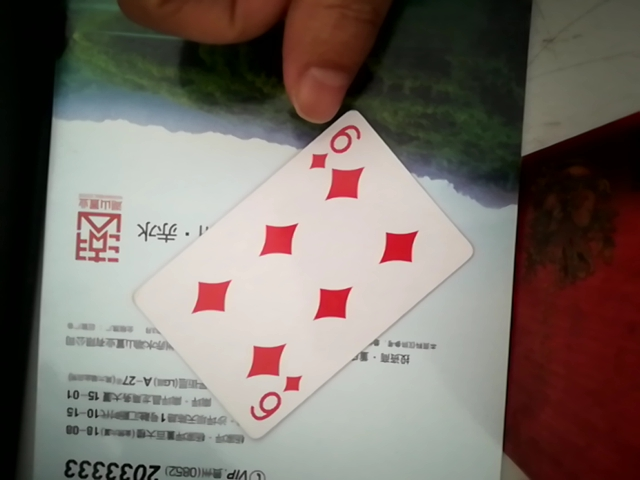fk 6: (127, 109, 478, 434)
